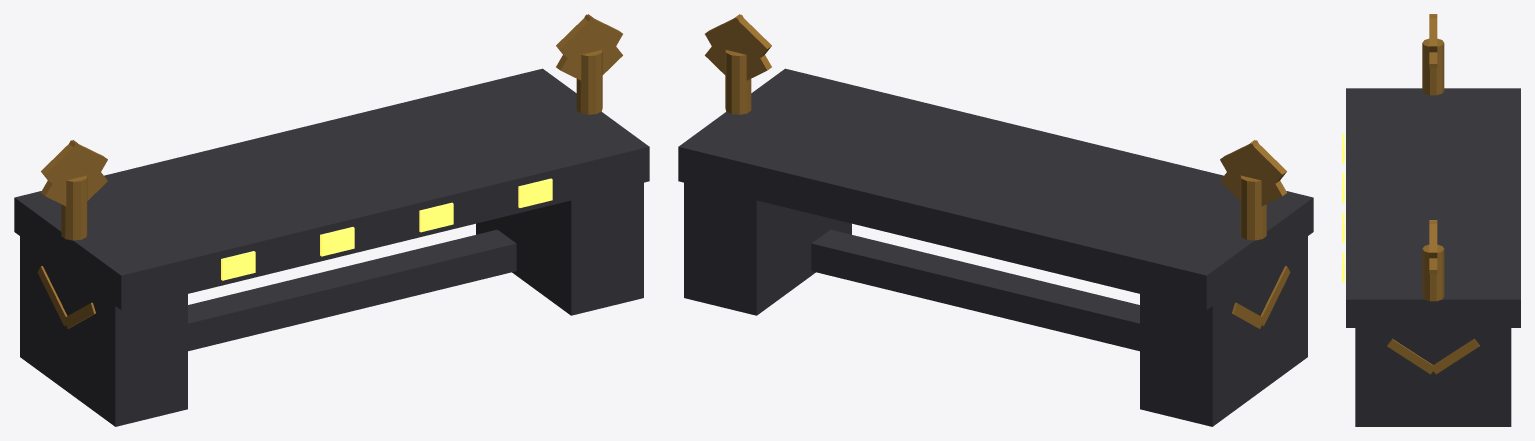
File: SM_Furn_MeadBench_08.glb
3 renders of one model, left to right at view 1: azimuth 30°, elevation 25°; view 2: azimuth 150°, elevation 25°; view 3: azimuth 270°, elevation 25°, orthographic. The views are drawn at different scales.
Visible parts, largest first — view 1: SM_Furn_MeadBench_08_Slab, SM_Furn_MeadBench_08_SupportL, SM_Furn_MeadBench_08_Stretcher, SM_Furn_MeadBench_08_SupportR, SM_Furn_MeadBench_08_AxeWingLBot, SM_Furn_MeadBench_08_AxeWingRBot, SM_Furn_MeadBench_08_ArmPostL, SM_Furn_MeadBench_08_ArmPostR, SM_Furn_MeadBench_08_AxeWingLTop, SM_Furn_MeadBench_08_AxeWingRTop, SM_Furn_MeadBench_08_RunePlate3, SM_Furn_MeadBench_08_RunePlate1 (+2 smaller); view 2: SM_Furn_MeadBench_08_Slab, SM_Furn_MeadBench_08_SupportL, SM_Furn_MeadBench_08_Stretcher, SM_Furn_MeadBench_08_SupportR, SM_Furn_MeadBench_08_AxeWingLBot, SM_Furn_MeadBench_08_AxeWingRBot, SM_Furn_MeadBench_08_ArmPostL, SM_Furn_MeadBench_08_ArmPostR, SM_Furn_MeadBench_08_AxeWingRTop, SM_Furn_MeadBench_08_AxeWingLTop; view 3: SM_Furn_MeadBench_08_Slab, SM_Furn_MeadBench_08_SupportR, SM_Furn_MeadBench_08_ArmPostL, SM_Furn_MeadBench_08_ArmPostR, SM_Furn_MeadBench_08_ChevronR_L, SM_Furn_MeadBench_08_ChevronR_R, SM_Furn_MeadBench_08_AxeWingLTop, SM_Furn_MeadBench_08_AxeWingRTop, SM_Furn_MeadBench_08_AxeWingLBot, SM_Furn_MeadBench_08_AxeWingRBot.
Part boxes in pixels (x1,y1,x2,y2): SM_Furn_MeadBench_08_Slab: [14, 68, 649, 309]; SM_Furn_MeadBench_08_SupportL: [20, 236, 187, 426]; SM_Furn_MeadBench_08_Stretcher: [188, 229, 516, 351]; SM_Furn_MeadBench_08_SupportR: [476, 182, 643, 315]; SM_Furn_MeadBench_08_AxeWingLBot: [41, 140, 107, 200]; SM_Furn_MeadBench_08_AxeWingRBot: [556, 14, 622, 74]; SM_Furn_MeadBench_08_ArmPostL: [61, 175, 87, 240]; SM_Furn_MeadBench_08_ArmPostR: [576, 49, 602, 114]; SM_Furn_MeadBench_08_AxeWingLTop: [41, 140, 107, 206]; SM_Furn_MeadBench_08_AxeWingRTop: [556, 14, 622, 80]; SM_Furn_MeadBench_08_RunePlate3: [518, 178, 552, 207]; SM_Furn_MeadBench_08_RunePlate1: [320, 227, 354, 256]; SM_Furn_MeadBench_08_Slab: [678, 68, 1313, 309]; SM_Furn_MeadBench_08_SupportL: [1140, 236, 1307, 426]; SM_Furn_MeadBench_08_Stretcher: [811, 229, 1139, 351]; SM_Furn_MeadBench_08_SupportR: [684, 182, 851, 315]; SM_Furn_MeadBench_08_AxeWingLBot: [1220, 140, 1286, 200]; SM_Furn_MeadBench_08_AxeWingRBot: [705, 14, 771, 74]; SM_Furn_MeadBench_08_ArmPostL: [1240, 175, 1266, 240]; SM_Furn_MeadBench_08_ArmPostR: [725, 49, 751, 114]; SM_Furn_MeadBench_08_AxeWingRTop: [705, 14, 771, 80]; SM_Furn_MeadBench_08_AxeWingLTop: [1220, 140, 1286, 206]; SM_Furn_MeadBench_08_Slab: [1346, 88, 1520, 327]; SM_Furn_MeadBench_08_SupportR: [1355, 328, 1511, 426]; SM_Furn_MeadBench_08_ArmPostL: [1422, 38, 1444, 95]; SM_Furn_MeadBench_08_ArmPostR: [1422, 244, 1444, 301]; SM_Furn_MeadBench_08_ChevronR_L: [1387, 338, 1435, 374]; SM_Furn_MeadBench_08_ChevronR_R: [1432, 338, 1479, 374]; SM_Furn_MeadBench_08_AxeWingLTop: [1429, 14, 1437, 52]; SM_Furn_MeadBench_08_AxeWingRTop: [1429, 220, 1437, 258]; SM_Furn_MeadBench_08_AxeWingLBot: [1429, 15, 1437, 68]; SM_Furn_MeadBench_08_AxeWingRBot: [1429, 221, 1437, 274].
Bounding box in the file's own units: 1.75 × 0.7199 × 0.572.
